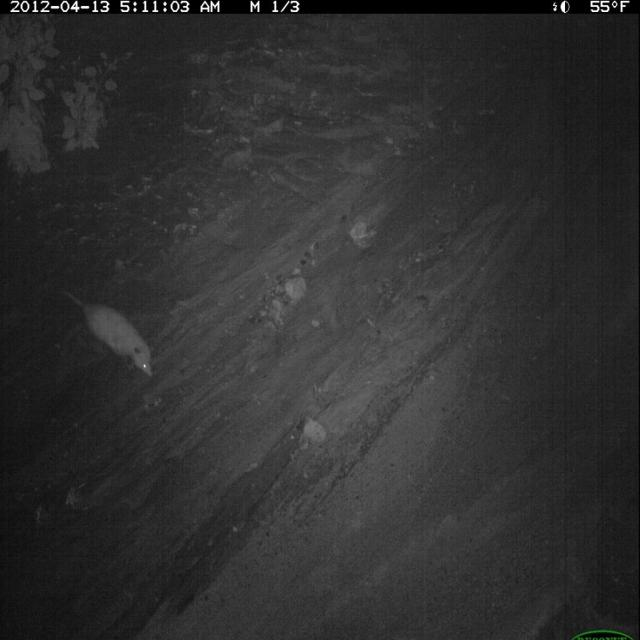opossum: (60, 275, 163, 382)
